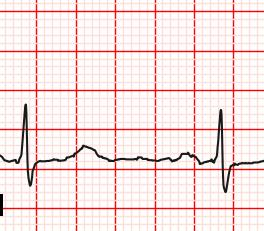ST Depression: (199, 152, 244, 196), (10, 151, 46, 193)
